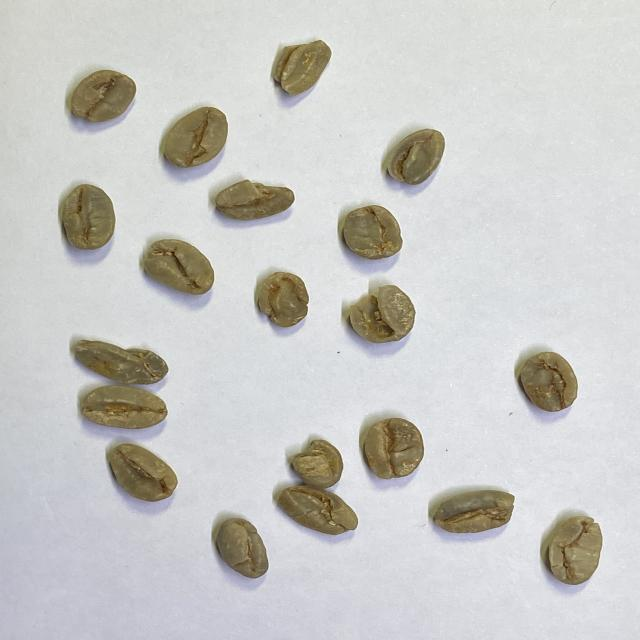bad: (73, 337, 170, 387), (160, 103, 230, 171), (344, 282, 418, 346), (277, 482, 361, 538), (105, 442, 180, 504), (54, 182, 118, 252), (544, 514, 606, 586), (143, 236, 216, 297), (361, 416, 427, 482), (80, 384, 171, 431), (384, 126, 448, 188), (517, 350, 579, 414), (340, 202, 406, 262), (68, 68, 137, 125), (431, 488, 516, 534), (270, 38, 334, 98), (213, 178, 296, 224), (216, 516, 270, 580), (256, 270, 310, 330), (288, 437, 344, 492)
